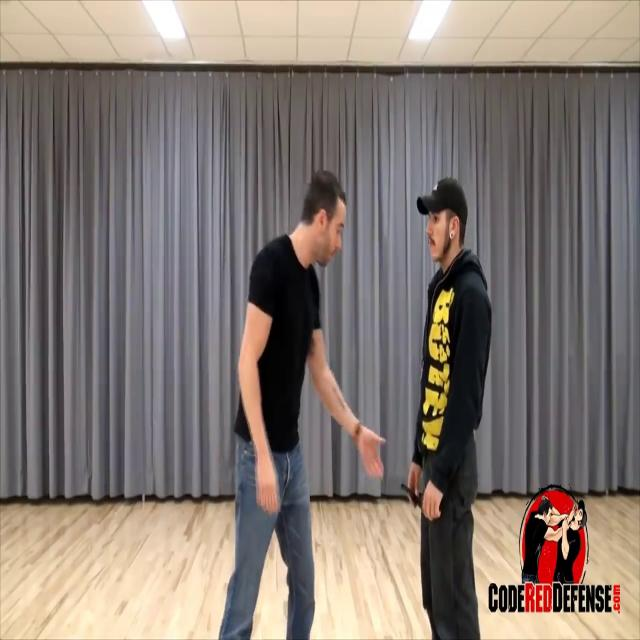Knife_Handle: (400, 461, 424, 508)
